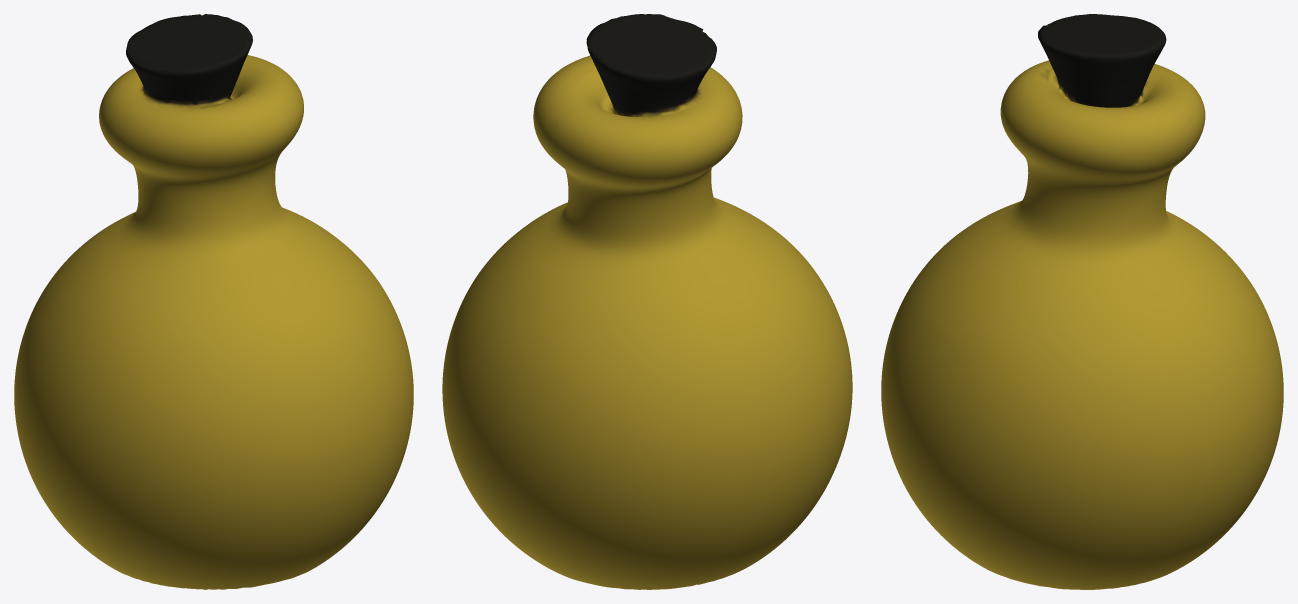
The model's file is exporttrank4.fbx.
The picture shows the model from 3 angles, left to right: view 1: azimuth 30°, elevation 25°; view 2: azimuth 150°, elevation 25°; view 3: azimuth 270°, elevation 25°; orthographic projection.
Parts seen in each view (by area): view 1: ReferenceModel_Selection_6; view 2: ReferenceModel_Selection_6; view 3: ReferenceModel_Selection_6.
Part boxes in pixels (box(x1,y1,x2,y2)): ReferenceModel_Selection_6: box(14, 14, 413, 589); ReferenceModel_Selection_6: box(442, 14, 852, 589); ReferenceModel_Selection_6: box(881, 14, 1283, 589).
Bounding box in the file's own units: 33.83 × 46.94 × 33.85.
